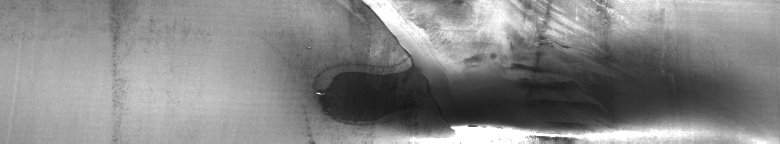ke: (304, 4, 750, 136)
